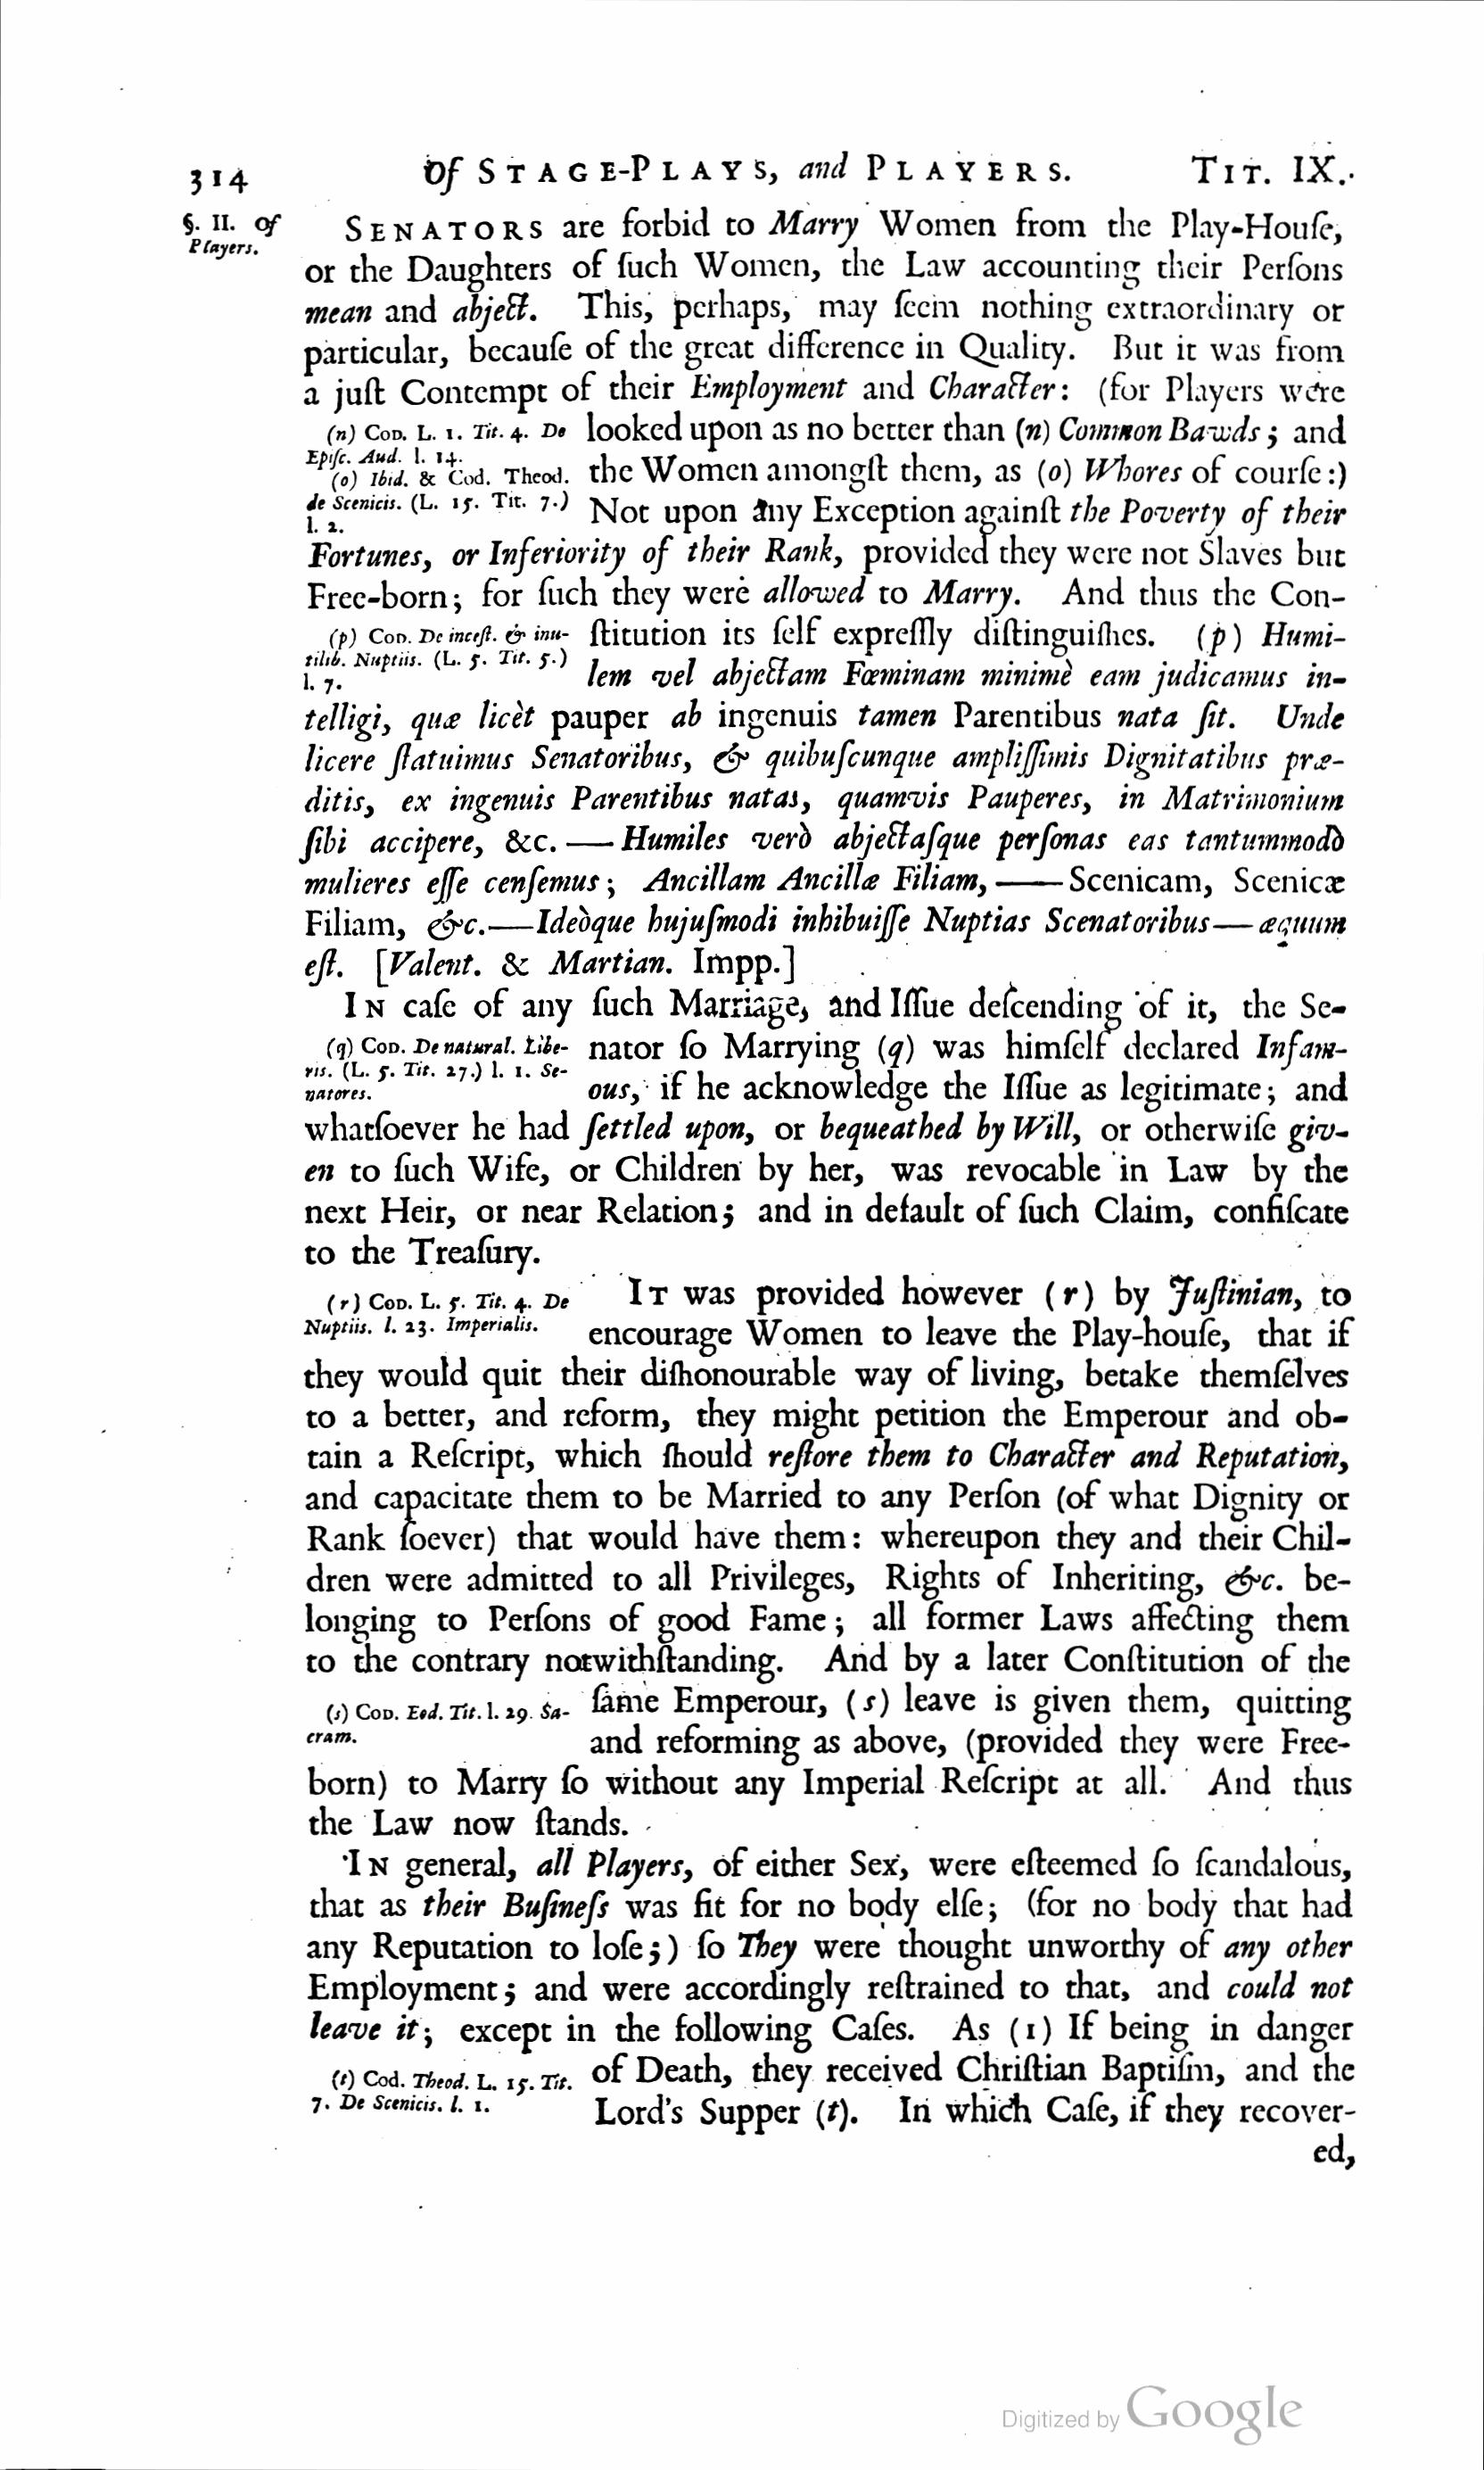bottom_p: (304, 699, 1355, 979), (300, 1110, 1359, 1276), (296, 1766, 1357, 1837)
catchword: (1297, 2129, 1366, 2179)
header: (415, 148, 1353, 196)
page_num: (185, 164, 252, 196)
print_marg: (300, 416, 581, 536), (296, 1265, 581, 1350), (307, 619, 581, 706), (296, 1681, 582, 1763), (309, 2050, 582, 2135), (296, 1030, 581, 1106), (173, 198, 302, 272)
top_p: (296, 1357, 1362, 1678), (304, 201, 1357, 415), (289, 1837, 1353, 2045), (582, 415, 1355, 533), (300, 535, 1355, 614), (581, 1261, 1360, 1355), (582, 1678, 1362, 1761), (589, 2047, 1359, 2129), (588, 1029, 1355, 1108), (582, 617, 1353, 693), (298, 979, 1357, 1027)
